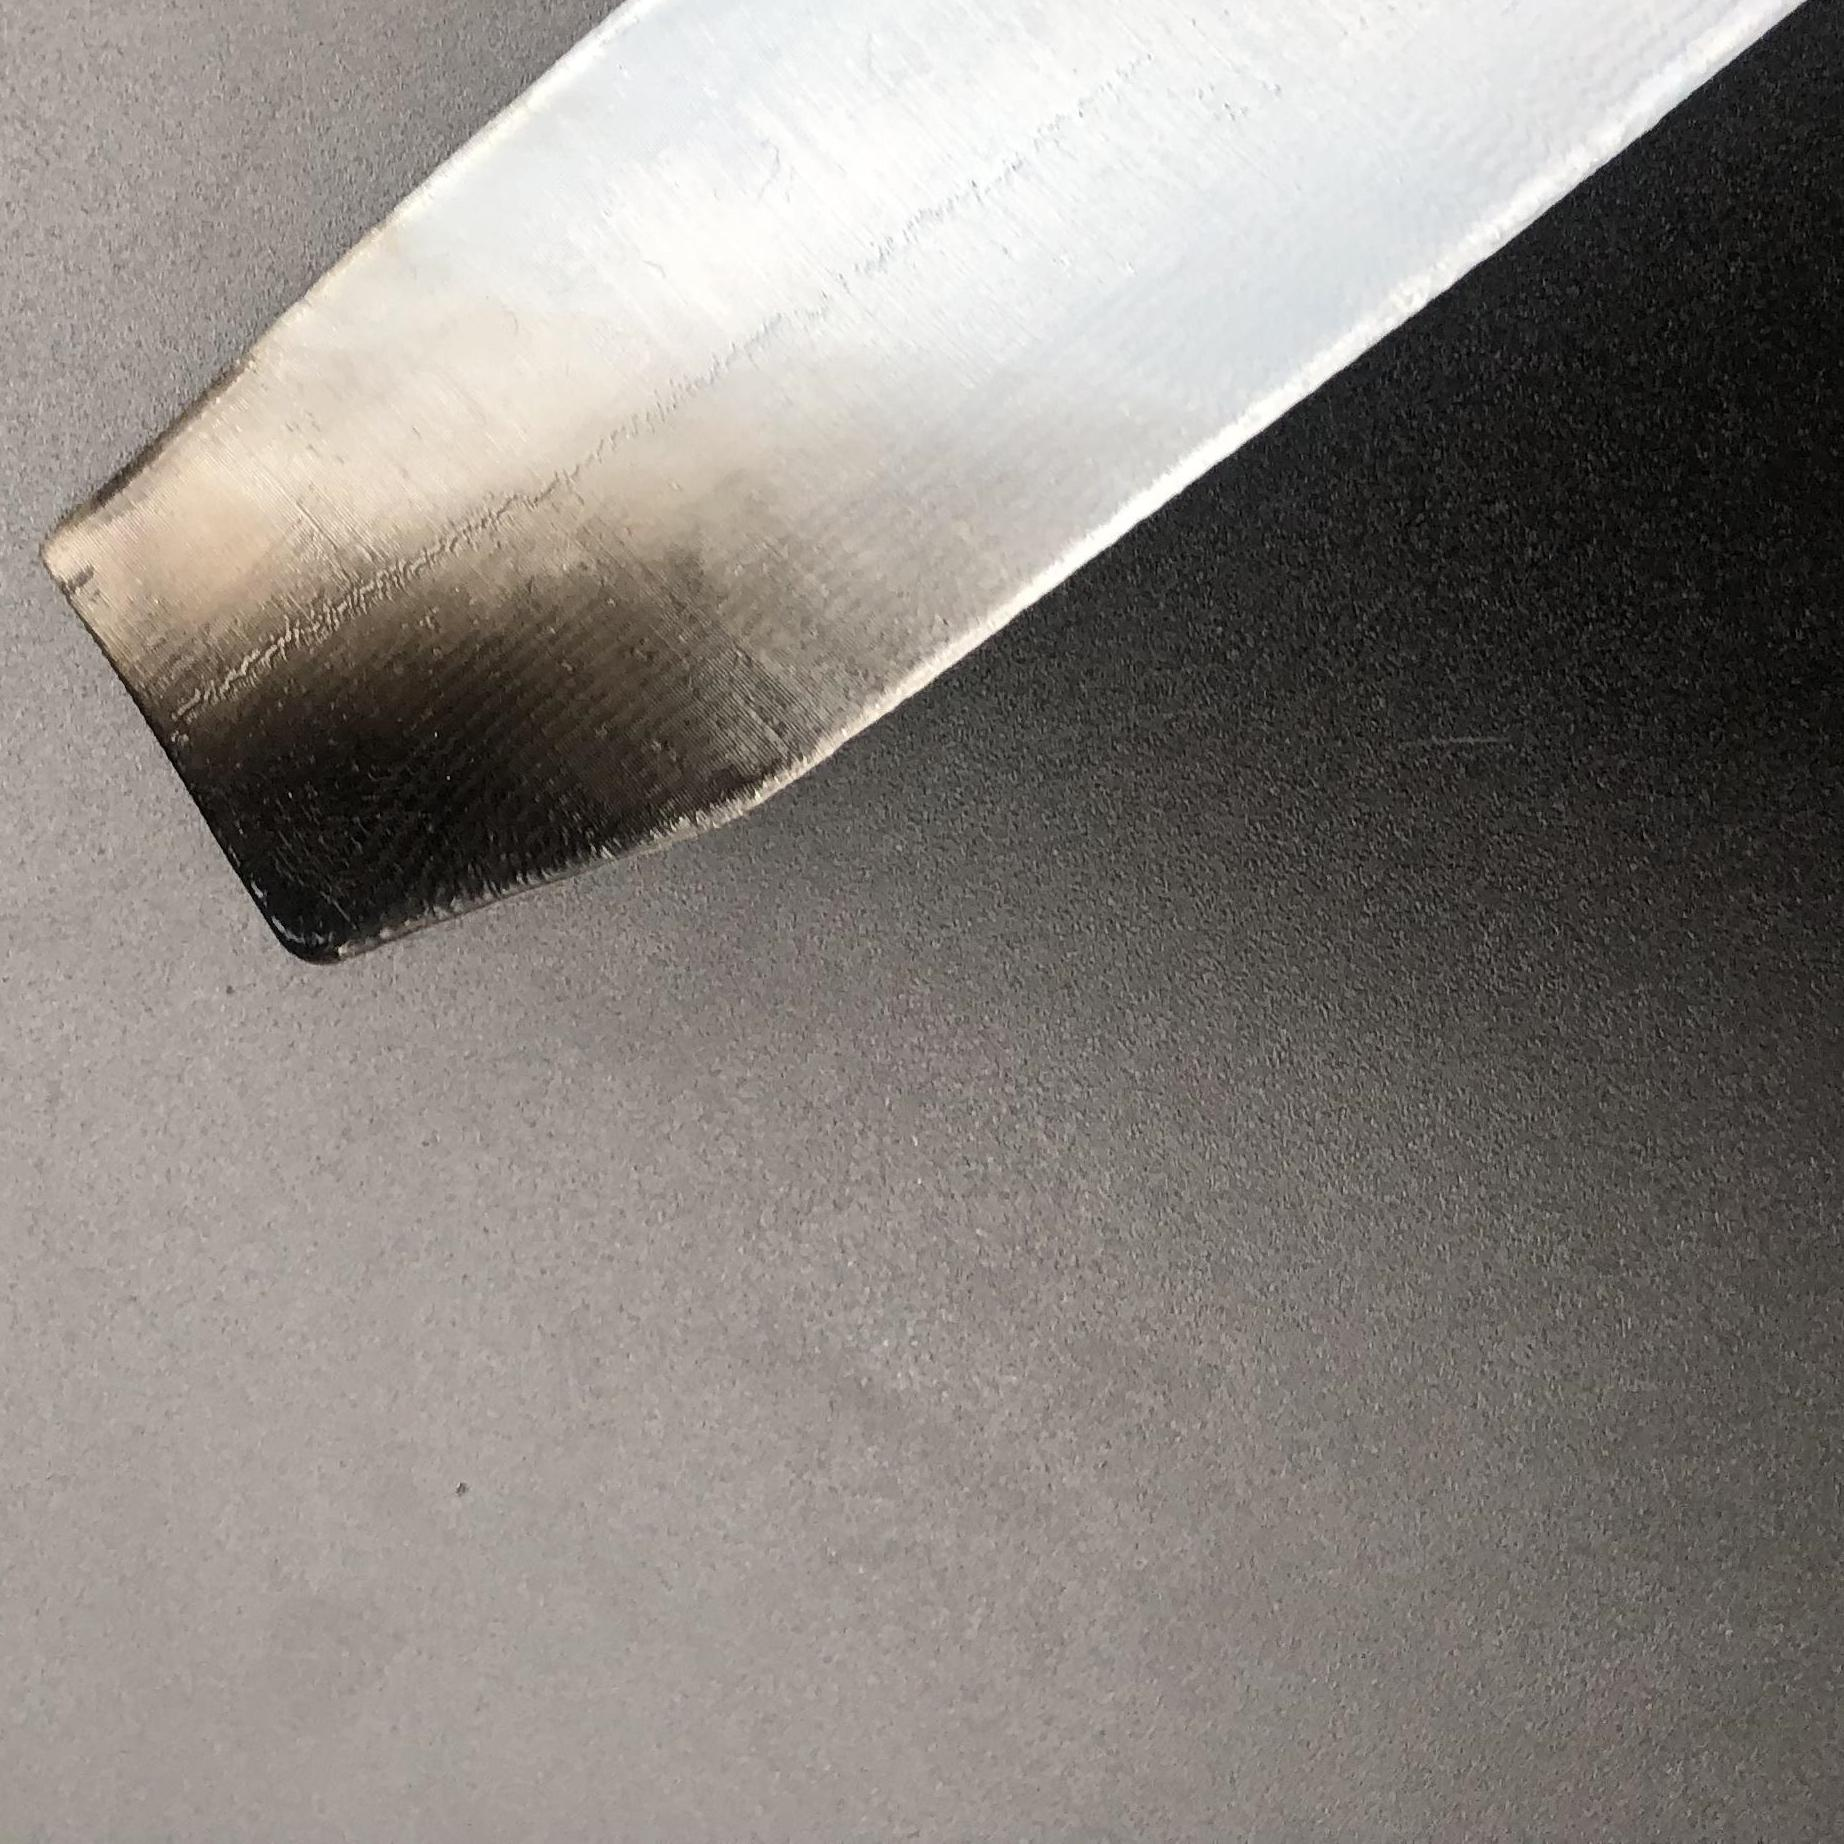ablation: (218, 593, 684, 838)
